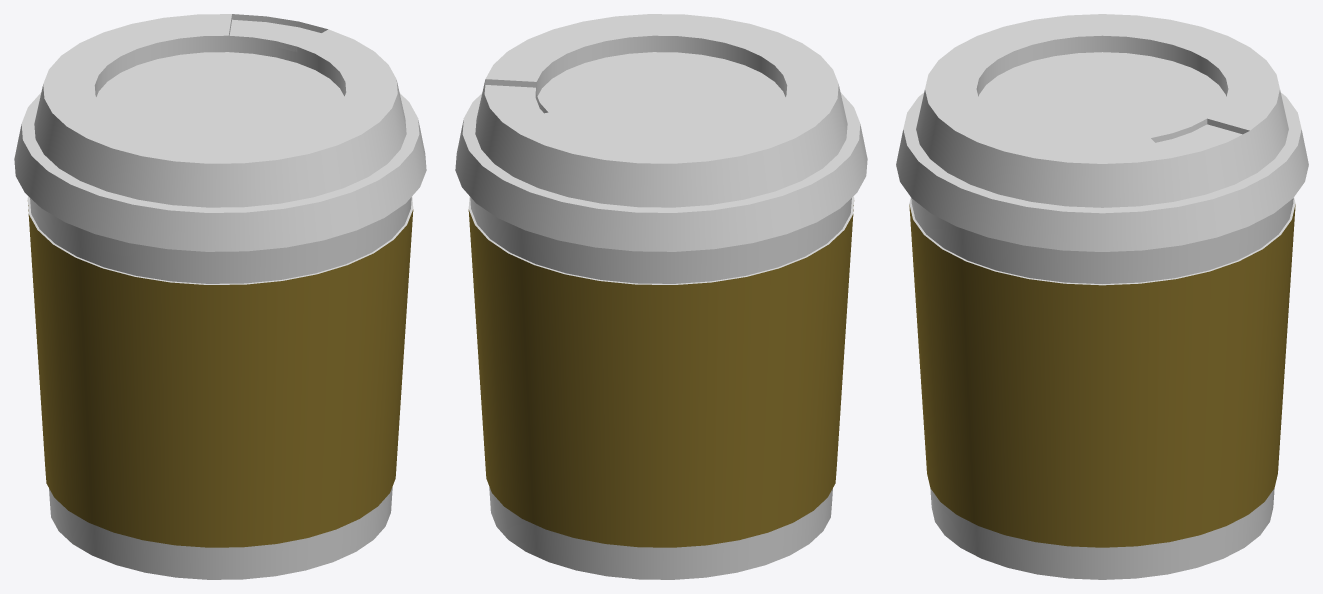
Rendered from coffee.fbx.
3 renders of one model, left to right at view 1: azimuth 30°, elevation 25°; view 2: azimuth 150°, elevation 25°; view 3: azimuth 270°, elevation 25°, orthographic.
Parts seen in each view (by area): view 1: Circle; view 2: Circle; view 3: Circle.
Boxes of the visible parts, x1=… form: Circle: x1=14, y1=14, x2=426, y2=579; Circle: x1=455, y1=14, x2=867, y2=579; Circle: x1=896, y1=14, x2=1308, y2=579.
Size of the model in its own units: 214 by 239 by 214.
